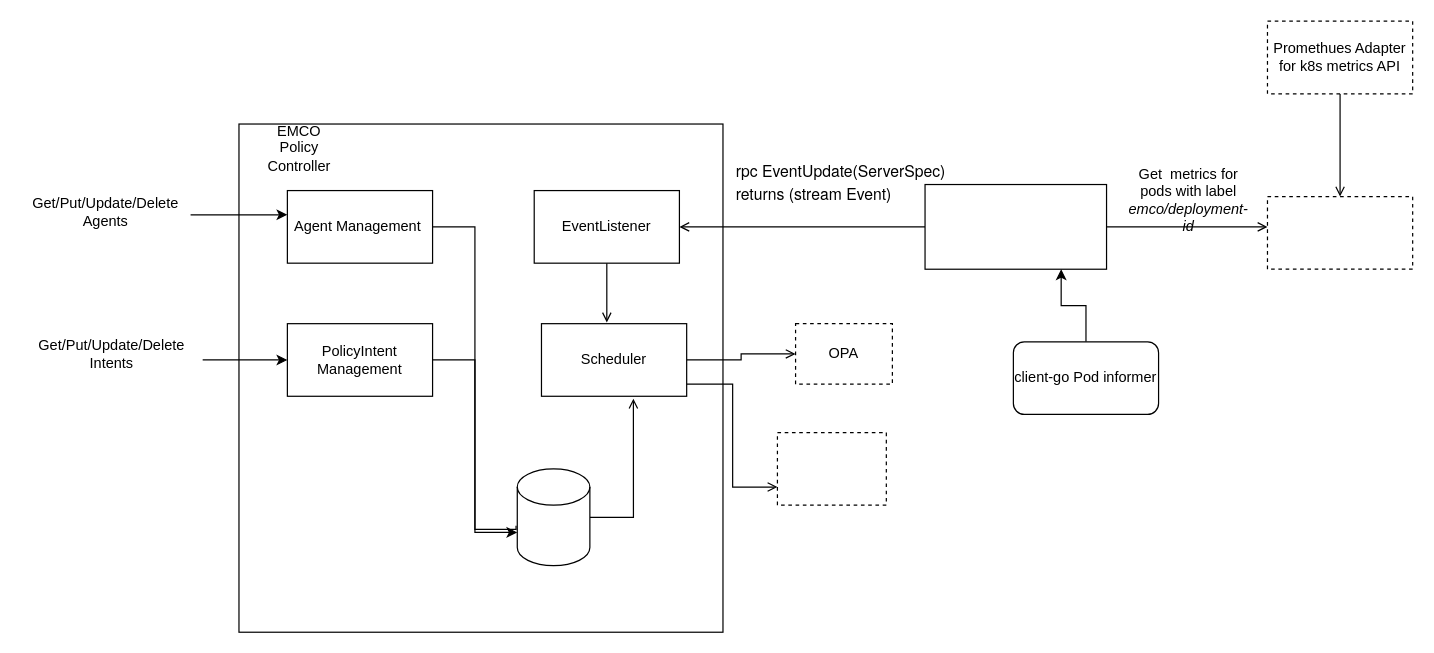
This 1434x653 diagram has some shape labels left out. The shapes that lost their labels are listed below. From the top down, each one's centre as x and y in pixels, then its label:
At (1015,226): "EdgeMetricsCollector (Agent)".
At (1339,232): "custom.metrics.k8s.io metrics.k8s.io external.metrics.k8s.io".
At (831,468): "Workflow Manager".
At (553,517): "Mongo".
